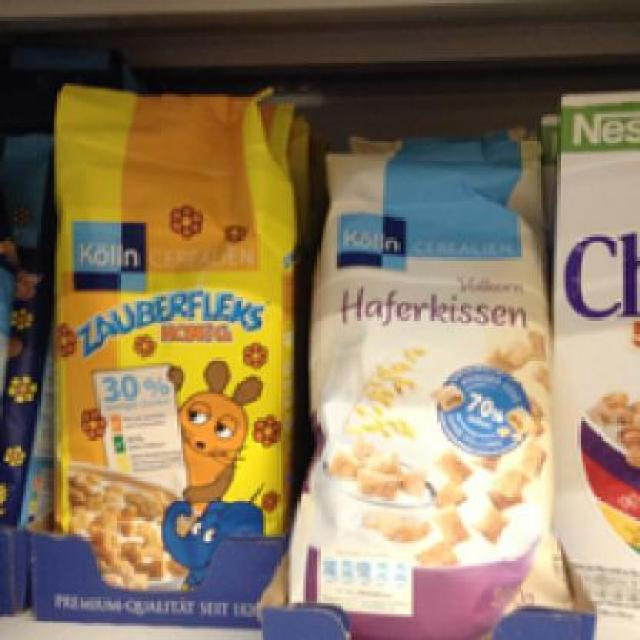Cereal: (291, 155, 580, 634), (48, 82, 292, 588)
